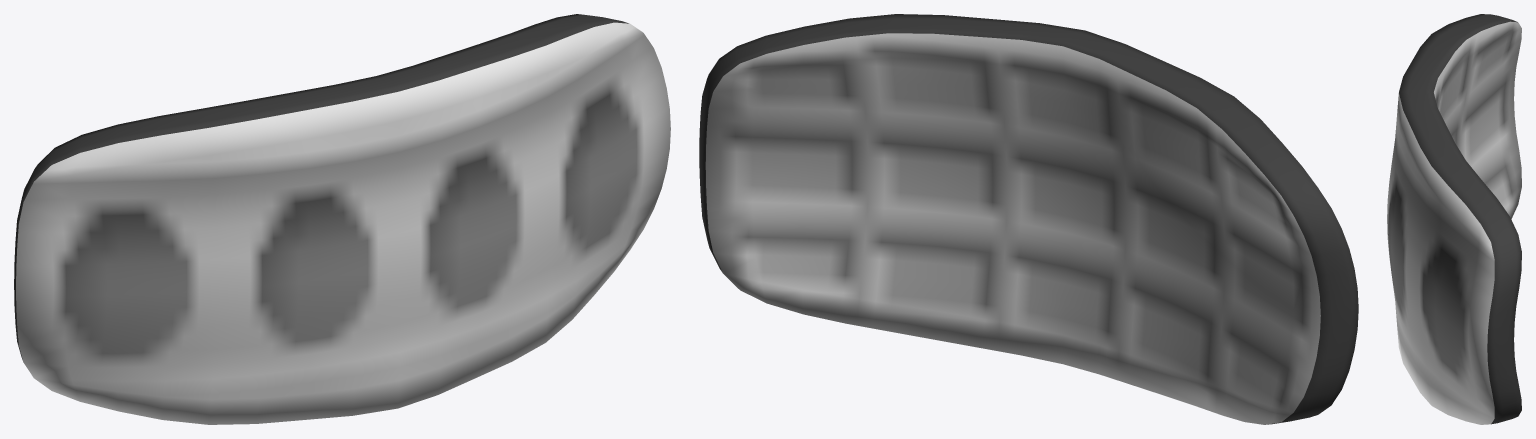
File: huston3_alt.obj
The picture shows the model from 3 angles, left to right: view 1: azimuth 30°, elevation 25°; view 2: azimuth 150°, elevation 25°; view 3: azimuth 270°, elevation 25°; orthographic projection. The views are drawn at different scales.
Parts seen in each view (by area): view 1: ColobotMesh_1.002_ColobotMesh_.002; view 2: ColobotMesh_1.002_ColobotMesh_.002; view 3: ColobotMesh_1.002_ColobotMesh_.002.
Part boxes in pixels (<box>): ColobotMesh_1.002_ColobotMesh_.002: <box>14,14,670,424</box>; ColobotMesh_1.002_ColobotMesh_.002: <box>699,14,1358,424</box>; ColobotMesh_1.002_ColobotMesh_.002: <box>1387,14,1521,424</box>.
Bounding box in the file's own units: 8.48 × 3.96 × 1.88.
